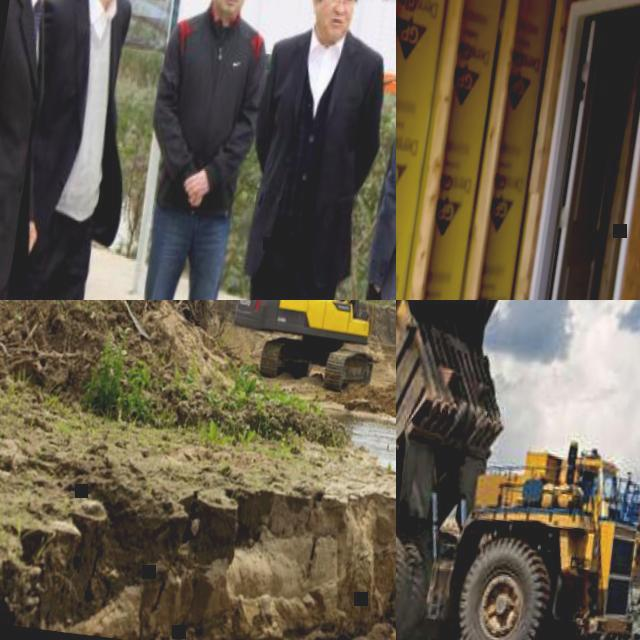machinery: (396, 300, 640, 640)
no_mask: (316, 10, 351, 44), (210, 0, 245, 21)
no_vest: (248, 34, 375, 280), (19, 0, 132, 228), (158, 14, 258, 210), (0, 0, 59, 295)
person: (213, 0, 396, 300), (108, 0, 285, 300), (0, 0, 149, 300), (0, 0, 90, 300)
